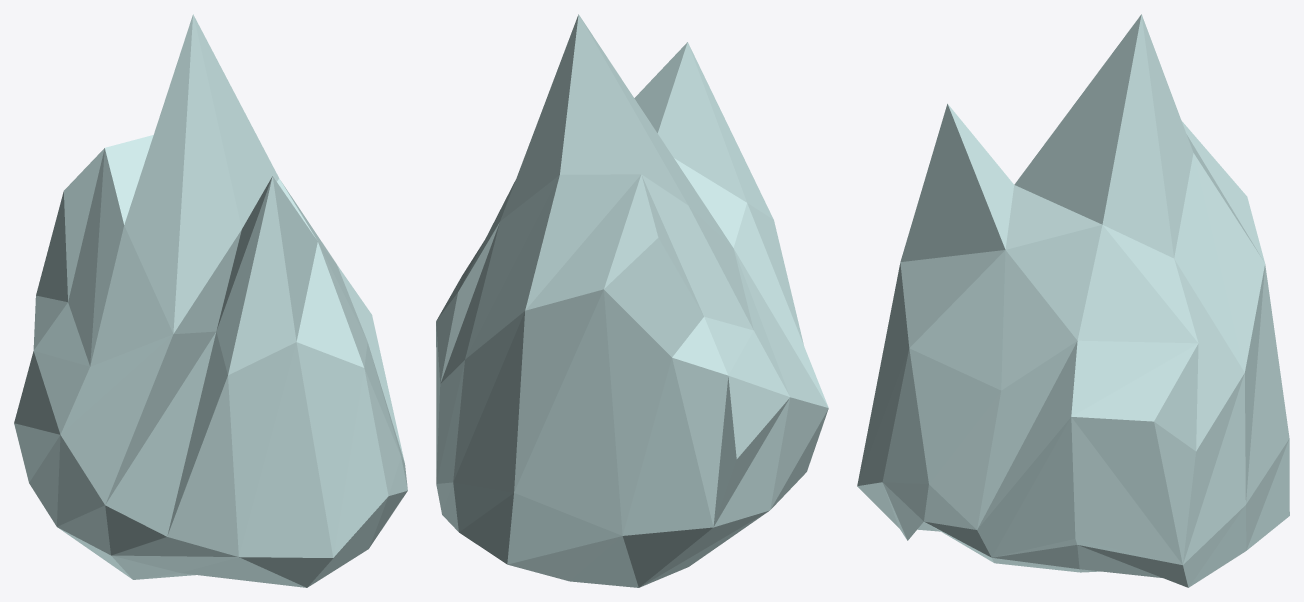
Rendered from Iceberg.glb.
The picture shows the model from 3 angles, left to right: view 1: azimuth 30°, elevation 25°; view 2: azimuth 150°, elevation 25°; view 3: azimuth 270°, elevation 25°; orthographic projection. The views are drawn at different scales.
Visible parts, largest first — view 1: Iceberg; view 2: Iceberg; view 3: Iceberg.
Boxes of the visible parts, x1,y1,x2,y2 form: Iceberg: [14, 14, 407, 587]; Iceberg: [436, 14, 828, 587]; Iceberg: [857, 14, 1289, 587].
Bounding box in the file's own units: 61.24 × 99.98 × 69.52.
Materials: 1 (1 with a texture image).
